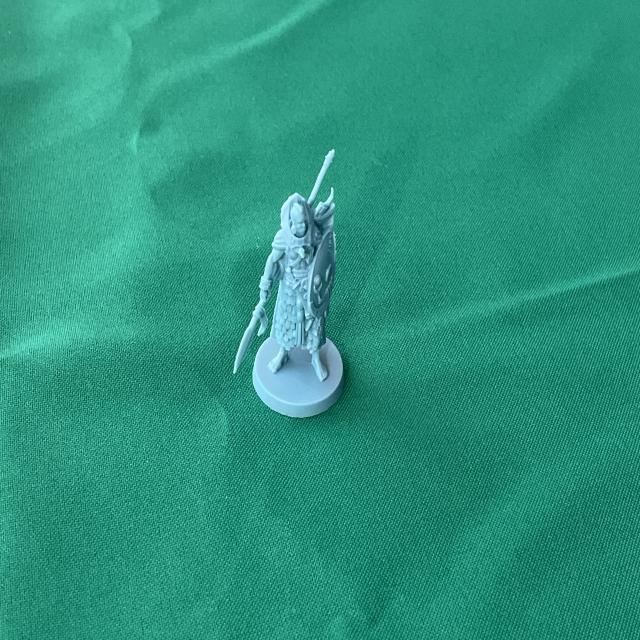isis_follower: (225, 142, 346, 419)
